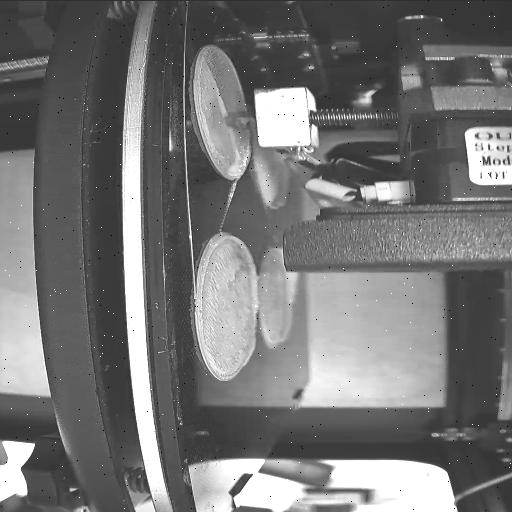over_extrusion: (198, 235, 260, 311), (238, 330, 258, 366), (224, 126, 244, 160), (212, 87, 230, 115), (286, 271, 300, 303)
